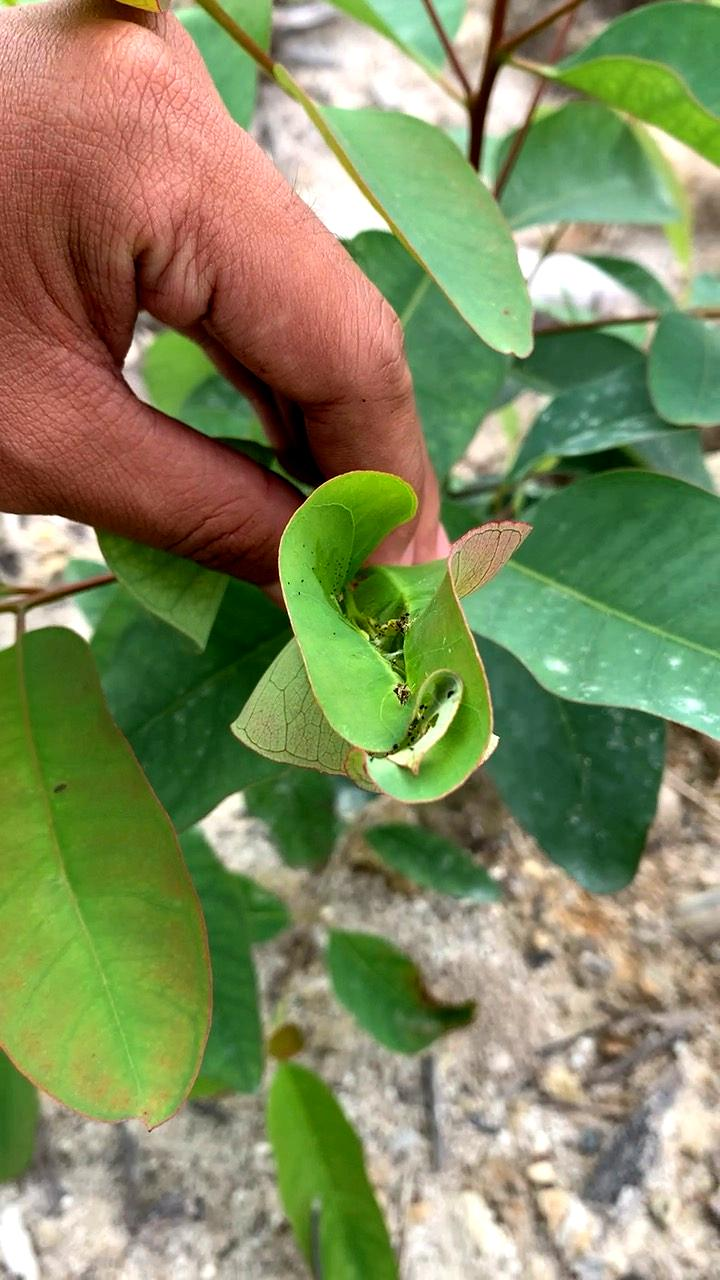Leaf Roller - Leaf: (275, 460, 543, 858)
